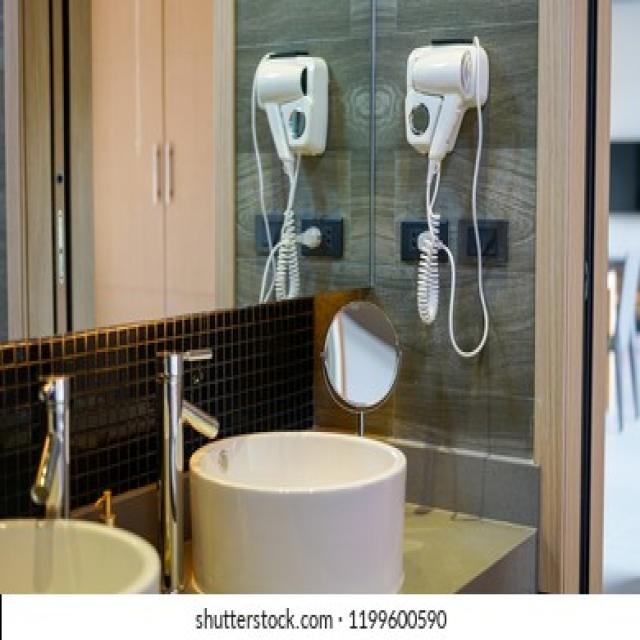dryer: (393, 33, 510, 361), (242, 38, 343, 302)
